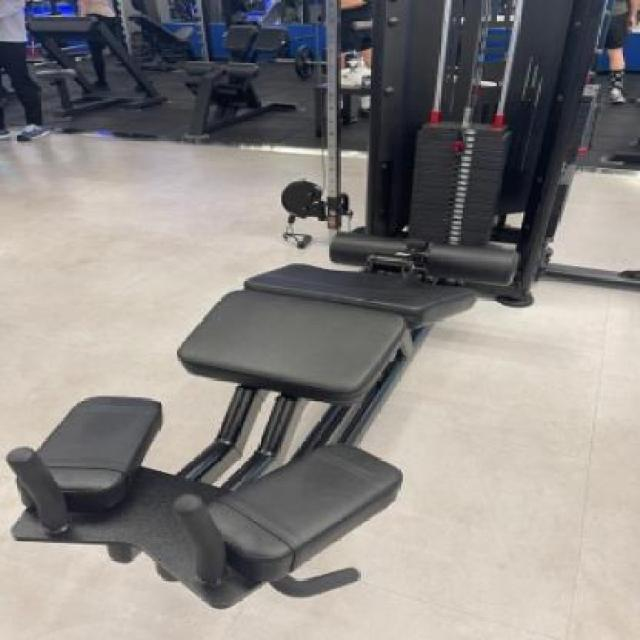reg curl machine: (4, 0, 640, 617)
